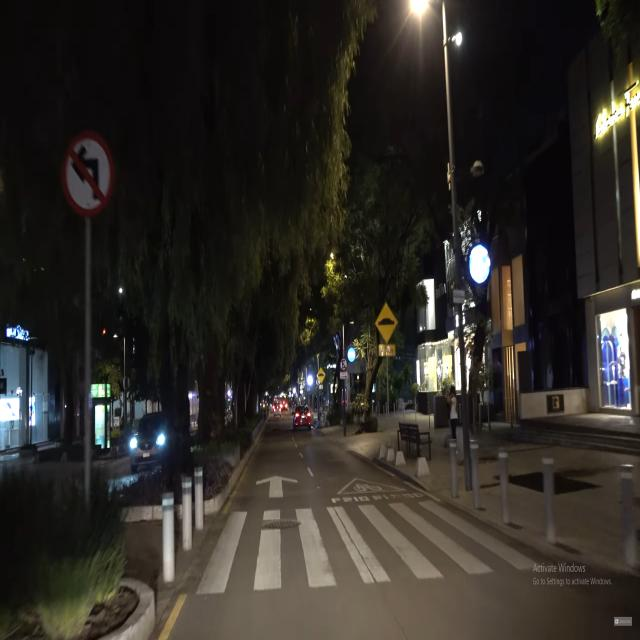headlights: (123, 430, 176, 456)
